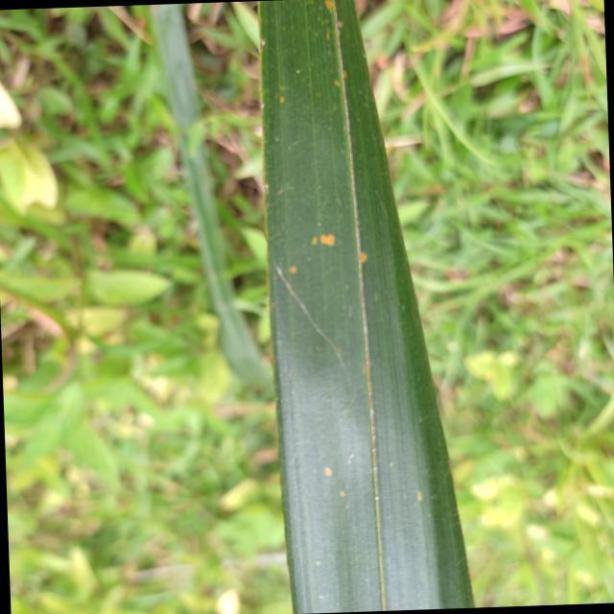Boron: (261, 0, 473, 614)
